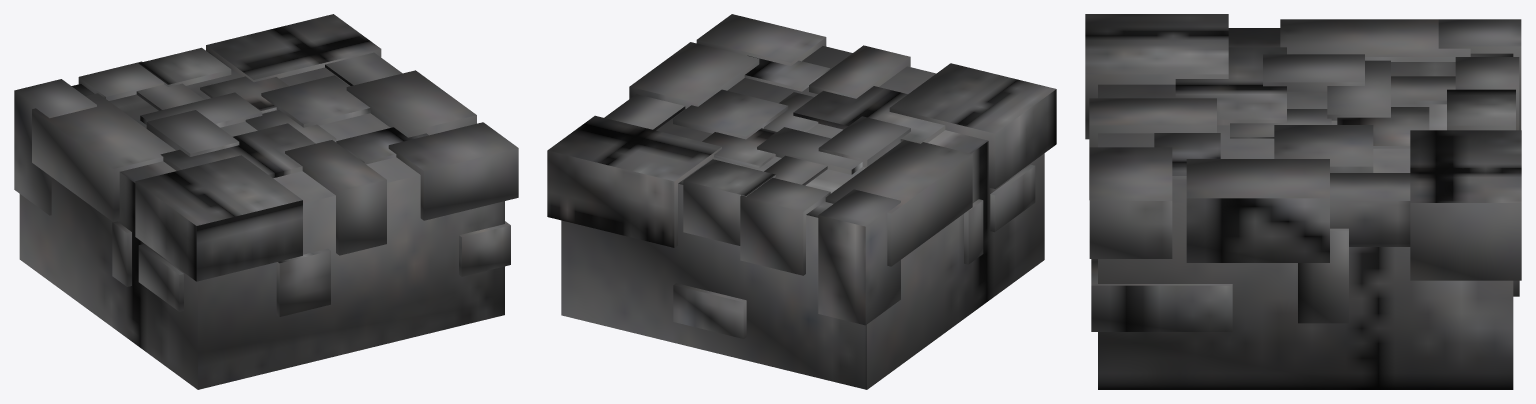
File: S_Coblestone_01.fbx
3 views of the same model, side by side, from view 1: azimuth 30°, elevation 25°; view 2: azimuth 150°, elevation 25°; view 3: azimuth 270°, elevation 25° (orthographic). The views are drawn at different scales.
Parts seen in each view (by area): view 1: Cube.004; view 2: Cube.004; view 3: Cube.004.
Part boxes in pixels (x1=…): Cube.004: x1=14, y1=14, x2=518, y2=389; Cube.004: x1=547, y1=14, x2=1056, y2=389; Cube.004: x1=1085, y1=14, x2=1521, y2=389.
Size of the model in its own units: 400 by 200 by 400.
